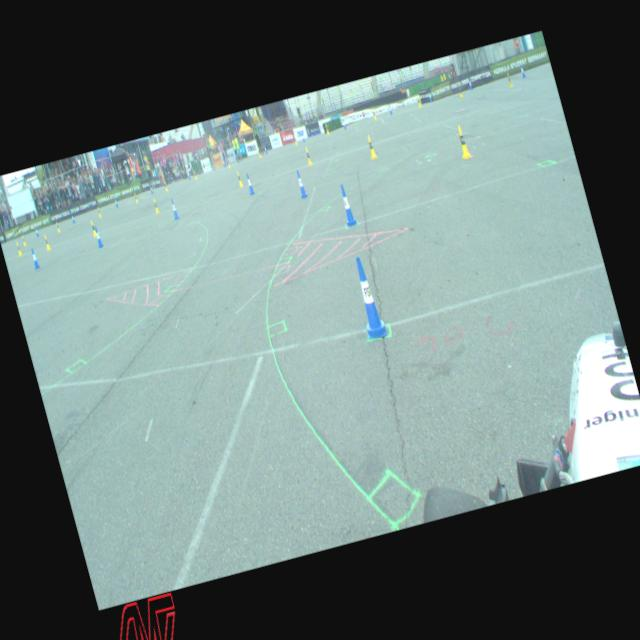blue_cone: (348, 254, 387, 339), (336, 182, 356, 226), (294, 168, 308, 198), (93, 225, 104, 248), (244, 172, 254, 194), (30, 247, 40, 268), (169, 198, 179, 218), (519, 64, 526, 77), (467, 78, 473, 89), (300, 132, 306, 142), (388, 104, 392, 114), (70, 212, 74, 222), (342, 119, 346, 129), (150, 185, 154, 194), (264, 145, 268, 154), (114, 198, 118, 207), (428, 92, 432, 101), (222, 158, 226, 166), (35, 228, 39, 235), (187, 170, 190, 179)
yellow_cone: (454, 125, 470, 158), (365, 134, 377, 158), (304, 146, 312, 164), (42, 234, 51, 250), (151, 197, 159, 213), (235, 170, 242, 186), (90, 220, 96, 237), (506, 72, 512, 87), (16, 241, 22, 255), (416, 95, 422, 106), (256, 146, 262, 157), (21, 234, 26, 246), (292, 134, 298, 144), (324, 123, 329, 134), (56, 220, 60, 232), (372, 108, 376, 119), (458, 86, 462, 97), (134, 192, 138, 202), (164, 181, 168, 191), (193, 170, 197, 180), (226, 158, 230, 167), (98, 206, 101, 216)
